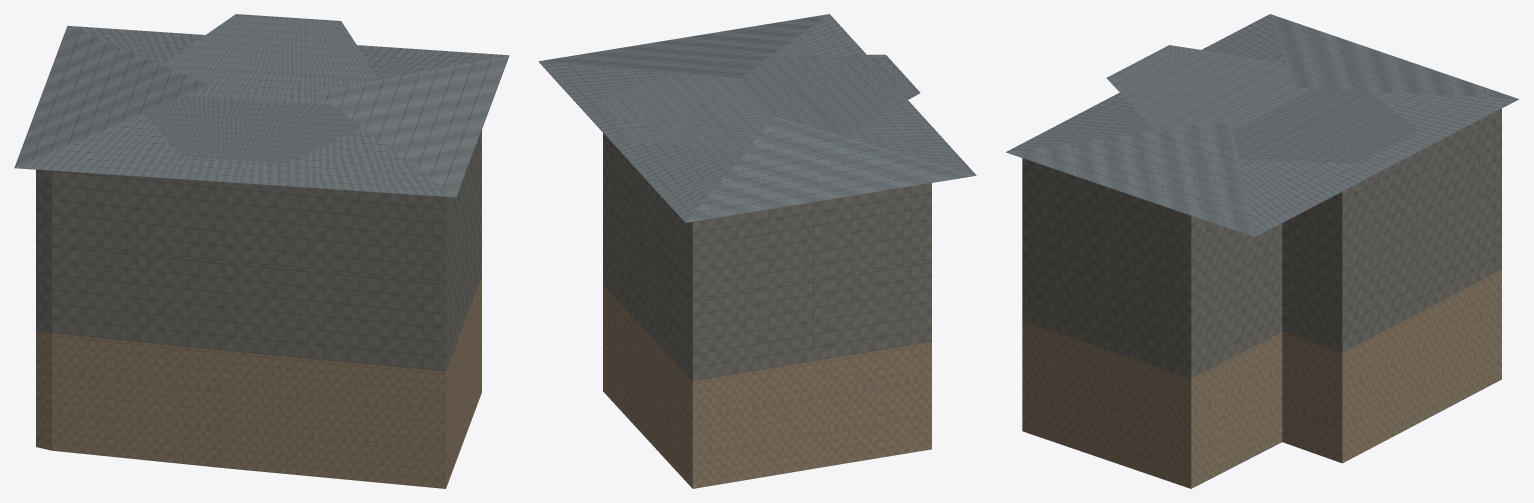
File: bld_c8_19_425.gltf
3 renders of one model, left to right at view 1: azimuth 30°, elevation 25°; view 2: azimuth 150°, elevation 25°; view 3: azimuth 270°, elevation 25°, orthographic. The views are drawn at different scales.
Visible parts, largest first — view 1: bld_c8_19_425; view 2: bld_c8_19_425; view 3: bld_c8_19_425.
Boxes of the visible parts, x1,y1,x2,y2 form: bld_c8_19_425: (14, 14, 509, 488); bld_c8_19_425: (538, 14, 976, 488); bld_c8_19_425: (1006, 14, 1518, 488).
Size of the model in its own units: 22.11 by 13.9 by 21.49.
Materials: 3 (3 with a texture image).
